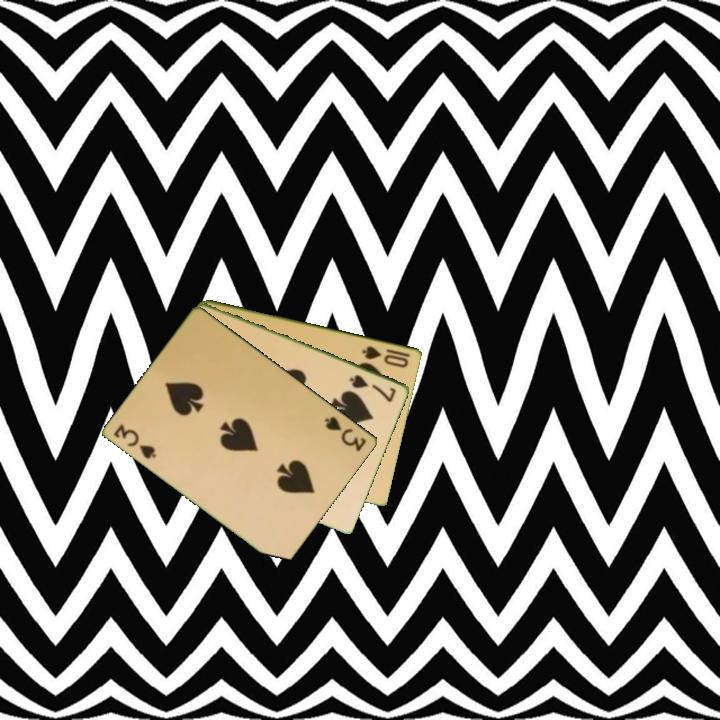10s: (359, 342, 412, 370)
3s: (110, 420, 160, 462), (321, 413, 370, 454)
7s: (347, 371, 399, 405)
